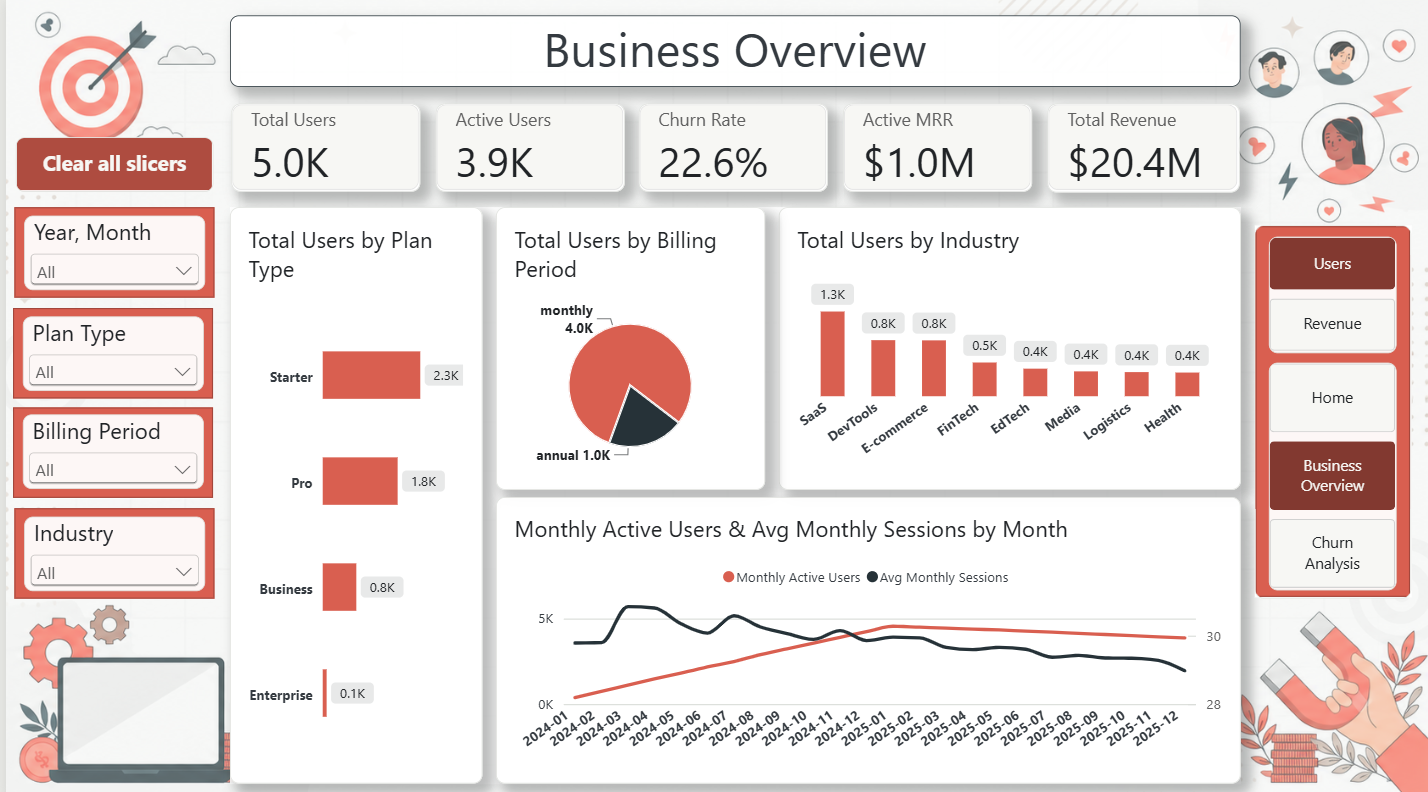

The page's visual inventory and layout, read from the dashboard file:
{"tool":"powerbi","page":{"name":"Business Overview","canvas":[1280,720],"ordinal":1},"visuals":[{"type":"textbox","box":[201.8,13.6,908.9,64.4],"z":0},{"type":"clusteredBarChart","title":"Total Users by Plan Type","fields":{"Category":["public users.plan_type"],"Y":["DAX Measures.Total Users"]},"box":[201.8,186.5,227.2,518.9],"z":0,"group":"g5"},{"type":"shape","box":[7.3,186.6,180,81.4],"z":0,"group":"g6"},{"type":"shape","box":[6.6,276.6,180,81.4],"z":0,"group":"g8"},{"type":"shape","box":[6,366.6,180,81.4],"z":0,"group":"g9"},{"type":"shape","box":[7.9,456.6,180,81.4],"z":0,"group":"g10"},{"type":"clusteredColumnChart","fields":{"Category":["public users.industry"],"Y":["DAX Measures.Total Users"]},"box":[695.3,186.5,415.5,254.4],"z":1000,"group":"g5"},{"type":"group","id":"g1","title":"Group 1","box":[7.3,186.6,180,81.4],"z":1000},{"type":"slicer","fields":{"Values":["public user_monthly.month.Variation.Date Hierarchy.Year","public user_monthly.month.Variation.Date Hierarchy.Month"]},"box":[16.7,193.7,162.6,66.8],"z":1000,"group":"g6"},{"type":"slicer","fields":{"Values":["public users.plan_type"]},"box":[16,284.4,162.6,66.8],"z":1000,"group":"g8"},{"type":"slicer","fields":{"Values":["public users.billing_period"]},"box":[15.4,373.4,162.6,66.8],"z":1000,"group":"g9"},{"type":"slicer","fields":{"Values":["public users.industry"]},"box":[17.3,464.2,162.6,66.8],"z":1000,"group":"g10"},{"type":"pieChart","title":"Total Users by Billing Period","fields":{"Category":["public users.billing_period"],"Y":["DAX Measures.Total Users"]},"box":[440.9,186.5,242.5,254.4],"z":2000,"group":"g5"},{"type":"group","id":"g2","title":"Group 2","box":[6.6,276.6,180,81.4],"z":2000},{"type":"group","id":"g3","title":"Group 3","box":[6,366.6,180,81.4],"z":3000},{"type":"lineChart","title":"Monthly Active Users & Avg Monthly Sessions by Month","fields":{"Category":["public user_monthly.Year-Month"],"Y":["DAX Measures.Active Users"],"Y2":["DAX Measures.Avg Monthly Sessions"]},"box":[440.9,447.7,669.8,257.8],"z":3000,"group":"g5"},{"type":"group","id":"g4","title":"Group 4","box":[7.9,456.6,180,81.4],"z":4000},{"type":"cardVisual","fields":{"Data":["DAX Measures.Total Users"]},"box":[202.5,93.3,170,79.4],"z":5000},{"type":"cardVisual","fields":{"Data":["DAX Measures.Active Users1"]},"box":[386.2,93.3,170,79.4],"z":6000},{"type":"cardVisual","fields":{"Data":["DAX Measures.Churn Rate"]},"box":[569.8,93.3,170,79.4],"z":7000},{"type":"cardVisual","fields":{"Data":["DAX Measures.Active MRR"]},"box":[753.4,93.3,170,79.4],"z":8000},{"type":"cardVisual","fields":{"Data":["DAX Measures.Total Revenue"]},"box":[937.8,93.3,173,79.7],"z":9000},{"type":"shape","box":[1123.7,202.5,141,335.5],"z":10000,"group":"g7"},{"type":"group","id":"g5","title":"Users Group","box":[201.8,186.5,908.9,518.9],"z":11000},{"type":"bookmarkNavigator","box":[1136.2,212,115.3,105.1],"z":13000,"group":"g7"},{"type":"actionButton","box":[8.5,123.8,178.1,49.2],"z":14000},{"type":"pageNavigator","box":[1136.2,325.6,115.3,205.2],"z":15000,"group":"g7"},{"type":"group","id":"g6","title":"Group 5","box":[7.3,186.6,180,81.4],"z":15001,"group":"g1"},{"type":"group","id":"g7","title":"Group 9","box":[1123.7,202.5,141,335.5],"z":15001},{"type":"group","id":"g8","title":"Group 6","box":[6.6,276.6,180,81.4],"z":15001,"group":"g2"},{"type":"group","id":"g9","title":"Group 7","box":[6,366.6,180,81.4],"z":15001,"group":"g3"},{"type":"group","id":"g10","title":"Group 8","box":[7.9,456.6,180,81.4],"z":15001,"group":"g4"}]}

Visuals, with their boxes in screenshot pixels (x1, y1, x2, y2), scaled from the page's 1280x720 canvas onto the 1428x792 screenshot:
textbox: bbox=(225, 15, 1239, 86)
"Total Users by Plan Type" clusteredBarChart: bbox=(225, 205, 479, 776)
shape: bbox=(8, 205, 209, 295)
shape: bbox=(7, 304, 208, 394)
shape: bbox=(7, 403, 208, 493)
shape: bbox=(9, 502, 210, 592)
clusteredColumnChart - public users.industry x DAX Measures.Total Users: bbox=(776, 205, 1239, 485)
"Group 1" group: bbox=(8, 205, 209, 295)
slicer - public user_monthly.month.Variation.Date Hierarchy.Year x public user_monthly.month.Variation.Date Hierarchy.Month: bbox=(19, 213, 200, 287)
slicer - public users.plan_type: bbox=(18, 313, 199, 386)
slicer - public users.billing_period: bbox=(17, 411, 199, 484)
slicer - public users.industry: bbox=(19, 511, 201, 584)
"Total Users by Billing Period" pieChart: bbox=(492, 205, 762, 485)
"Group 2" group: bbox=(7, 304, 208, 394)
"Group 3" group: bbox=(7, 403, 208, 493)
"Monthly Active Users & Avg Monthly Sessions by Month" lineChart: bbox=(492, 492, 1239, 776)
"Group 4" group: bbox=(9, 502, 210, 592)
cardVisual - DAX Measures.Total Users: bbox=(226, 103, 416, 190)
cardVisual - DAX Measures.Active Users1: bbox=(431, 103, 621, 190)
cardVisual - DAX Measures.Churn Rate: bbox=(636, 103, 825, 190)
cardVisual - DAX Measures.Active MRR: bbox=(841, 103, 1030, 190)
cardVisual - DAX Measures.Total Revenue: bbox=(1046, 103, 1239, 190)
shape: bbox=(1254, 223, 1411, 592)
"Users Group" group: bbox=(225, 205, 1239, 776)
bookmarkNavigator: bbox=(1268, 233, 1396, 349)
actionButton: bbox=(9, 136, 208, 190)
pageNavigator: bbox=(1268, 358, 1396, 584)
"Group 5" group: bbox=(8, 205, 209, 295)
"Group 9" group: bbox=(1254, 223, 1411, 592)
"Group 6" group: bbox=(7, 304, 208, 394)
"Group 7" group: bbox=(7, 403, 208, 493)
"Group 8" group: bbox=(9, 502, 210, 592)
